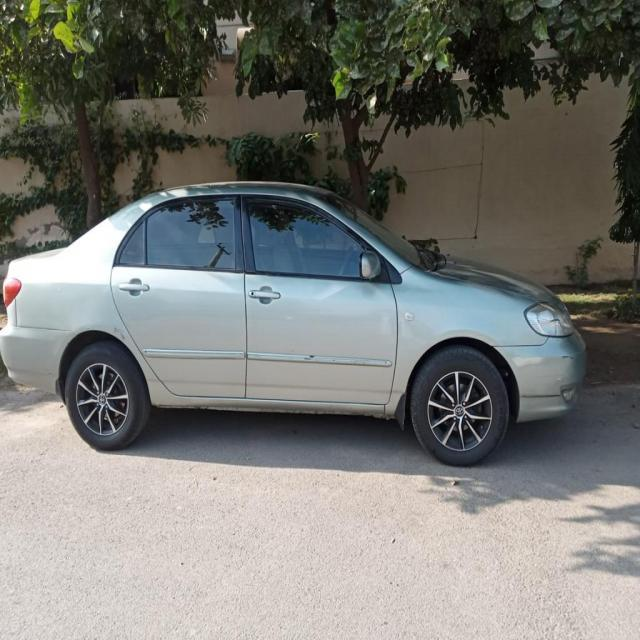scratch: (554, 348, 576, 369)
